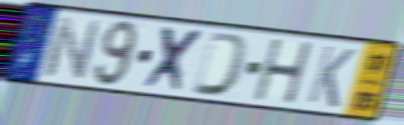9: (91, 18, 141, 89)
D: (189, 30, 252, 100)
H: (251, 38, 316, 107)
K: (304, 43, 358, 111)
N: (40, 15, 103, 83)
X: (140, 24, 209, 96)
